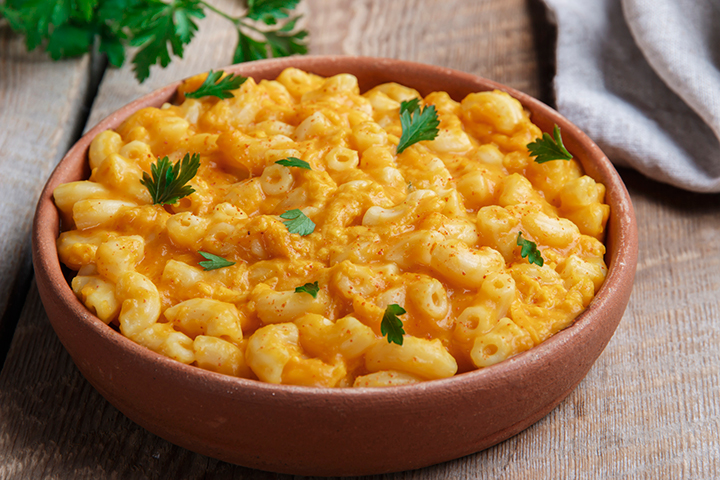macncheese: (78, 78, 612, 408)
